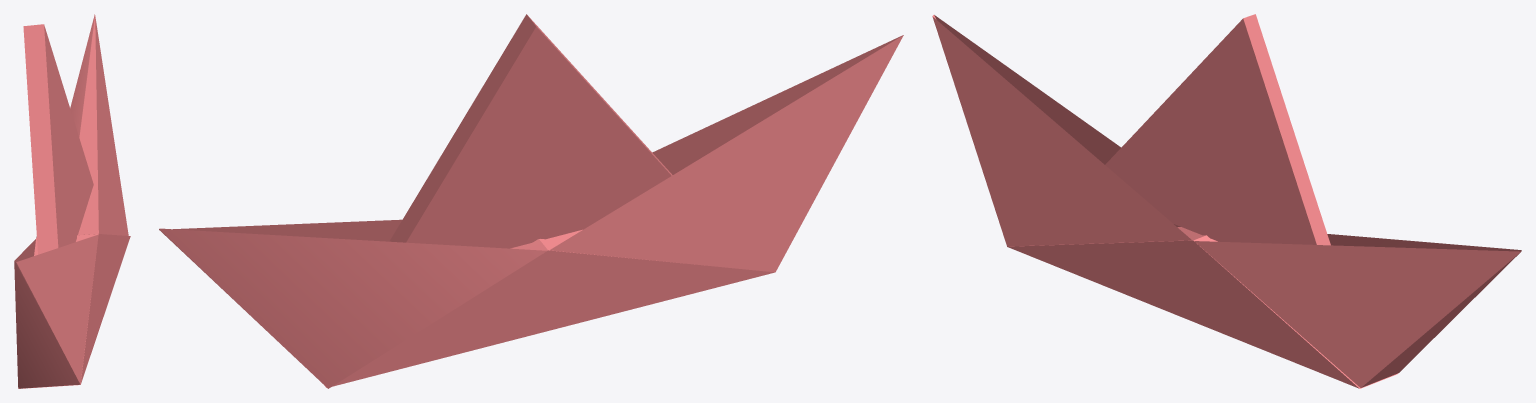
The model's file is paper-boat.gltf.
3 renders of one model, left to right at view 1: azimuth 30°, elevation 25°; view 2: azimuth 150°, elevation 25°; view 3: azimuth 270°, elevation 25°, orthographic. The views are drawn at different scales.
Parts seen in each view (by area): view 1: Paper Boat.1; view 2: Paper Boat.1; view 3: Paper Boat.1.
Part boxes in pixels (box(x1,y1,x2,y2)): Paper Boat.1: box(14, 14, 130, 388); Paper Boat.1: box(159, 14, 903, 388); Paper Boat.1: box(932, 14, 1521, 388).
Size of the model in its own units: 0.4802 by 0.3713 by 0.6488.
